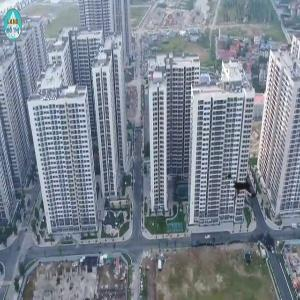drone: (205, 153, 277, 225)
